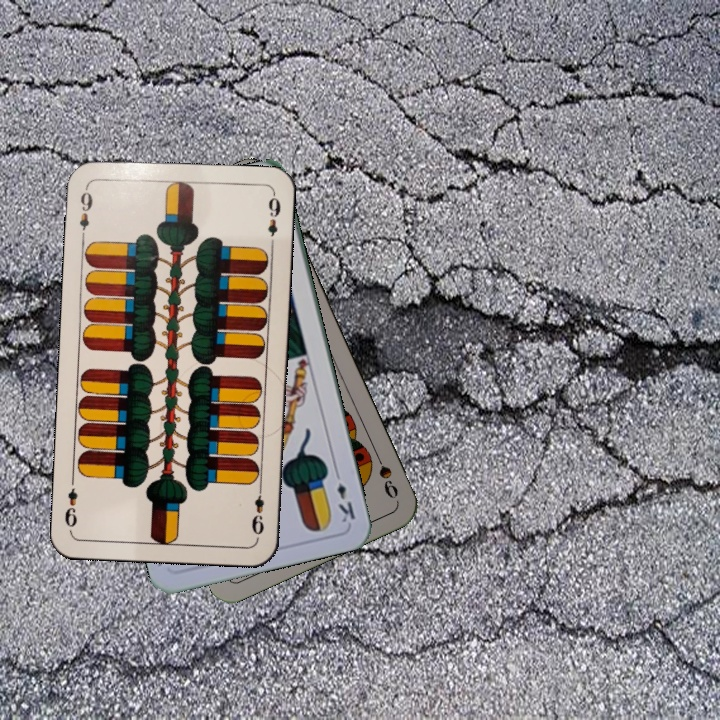E9: (75, 183, 95, 242), (247, 481, 267, 538)
EK: (331, 466, 358, 525)
S9: (369, 445, 401, 502)
